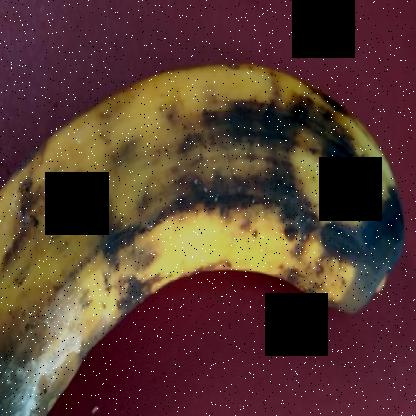rotten: (1, 45, 415, 415)
